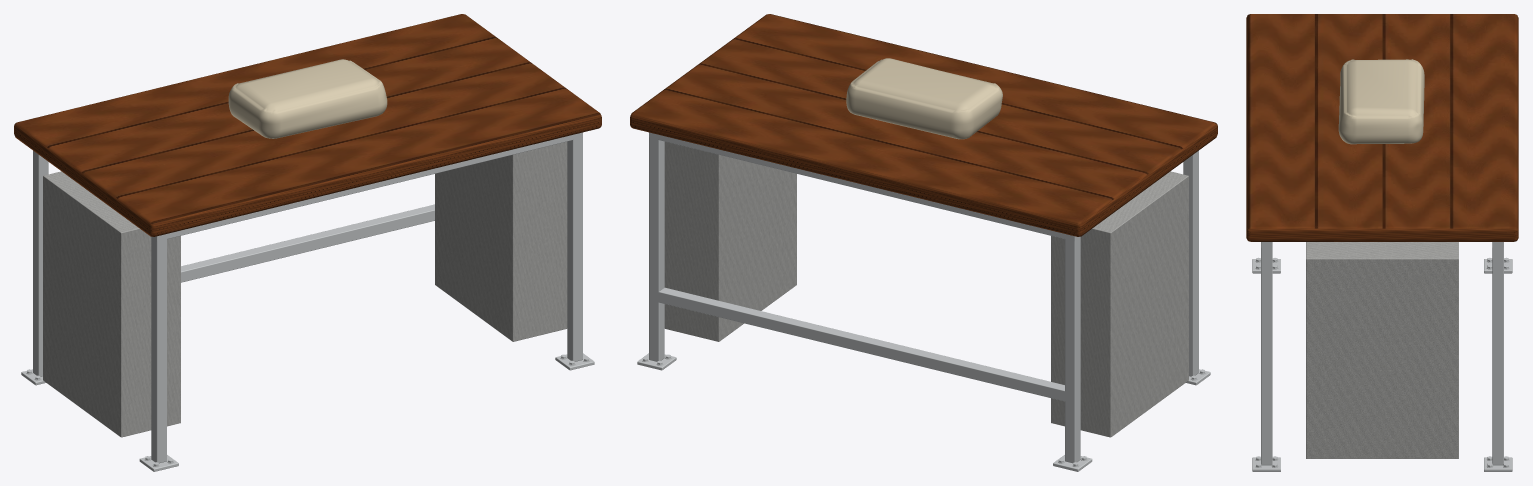
File: fps-weapon-set-and-firing-range-bench-rest-927c5d39__19495.glb
3 renders of one model, left to right at view 1: azimuth 30°, elevation 25°; view 2: azimuth 150°, elevation 25°; view 3: azimuth 270°, elevation 25°, orthographic. The views are drawn at different scales.
Visible parts, largest first — view 1: bench-rest; view 2: bench-rest; view 3: bench-rest.
Boxes of the visible parts, x1,y1,x2,y2 form: bench-rest: (14,14,601,471); bench-rest: (630,14,1217,471); bench-rest: (1246,14,1518,471).
Size of the model in its own units: 1.5 by 0.9171 by 0.8001.
4 materials, 2 textured.
